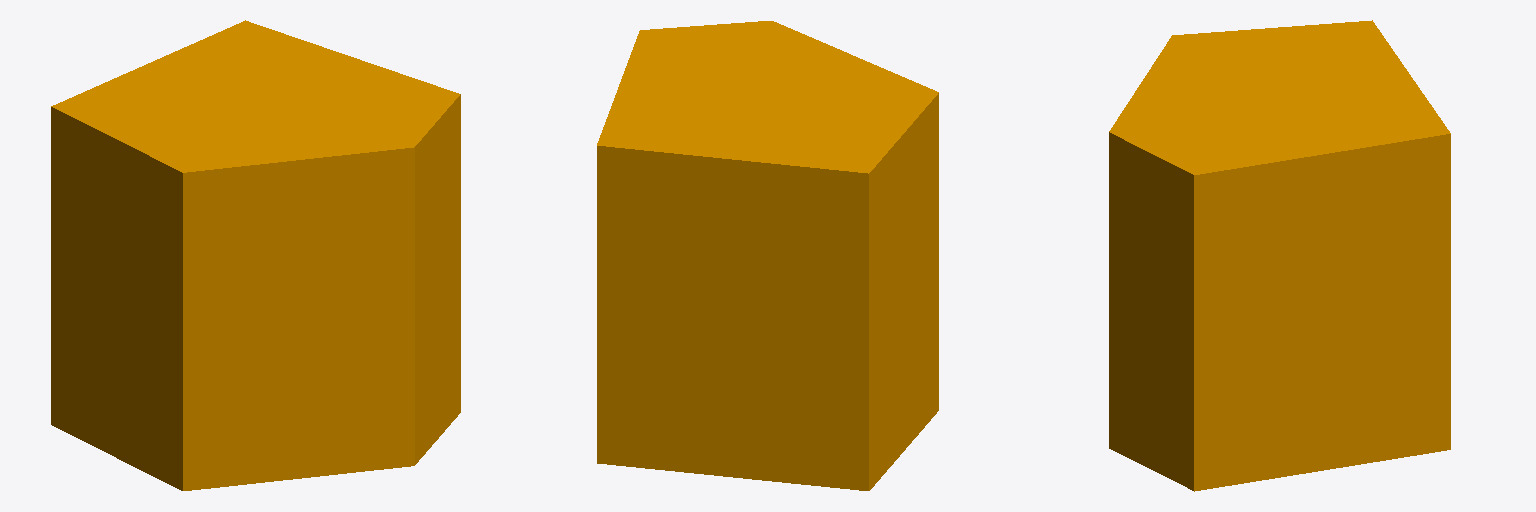
The robot description file, URDF, robot "object":
<?xml version="1.0"?>
<robot name="object">
  <link name="object">
    <visual>
      <origin xyz="0 0 0"/>
      <geometry>
        <mesh filename="meshes/generated/col_080.obj" scale="0.03 0.03 0.03"/>
      </geometry>
    </visual>
    <collision>
      <origin xyz="0 0 0"/>
      <geometry>
        <mesh filename="meshes/generated/col_080.obj" scale="0.03 0.03 0.03"/>
      </geometry>
    </collision>
    <inertial>
      <density value="1000.0"/>
    </inertial>
  </link>
</robot>

--- What the picture shows (computed from the rendered views, not written in the file) ---
3 views of the same robot in one strip: view 1: azimuth 30°, elevation 25°; view 2: azimuth 150°, elevation 25°; view 3: azimuth 270°, elevation 25° (orthographic).
Model object with 1 links and 0 joints (none), rooted at object, posed every joint at zero.
Links seen in each view (by area): view 1: object; view 2: object; view 3: object.
Link boxes in pixels (x1,y1,x2,y2): object: (51, 20, 460, 490); object: (597, 21, 938, 490); object: (1109, 20, 1450, 491).
Size in the robot's own frame: 0.063 by 0.0588 by 0.06 metres.
Meshes: 1 distinct files referenced, 1 mesh visuals loaded (1 OBJ).
